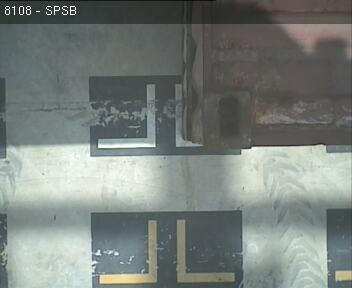groundmarker_1: (98, 218, 235, 282), (95, 83, 189, 148)
